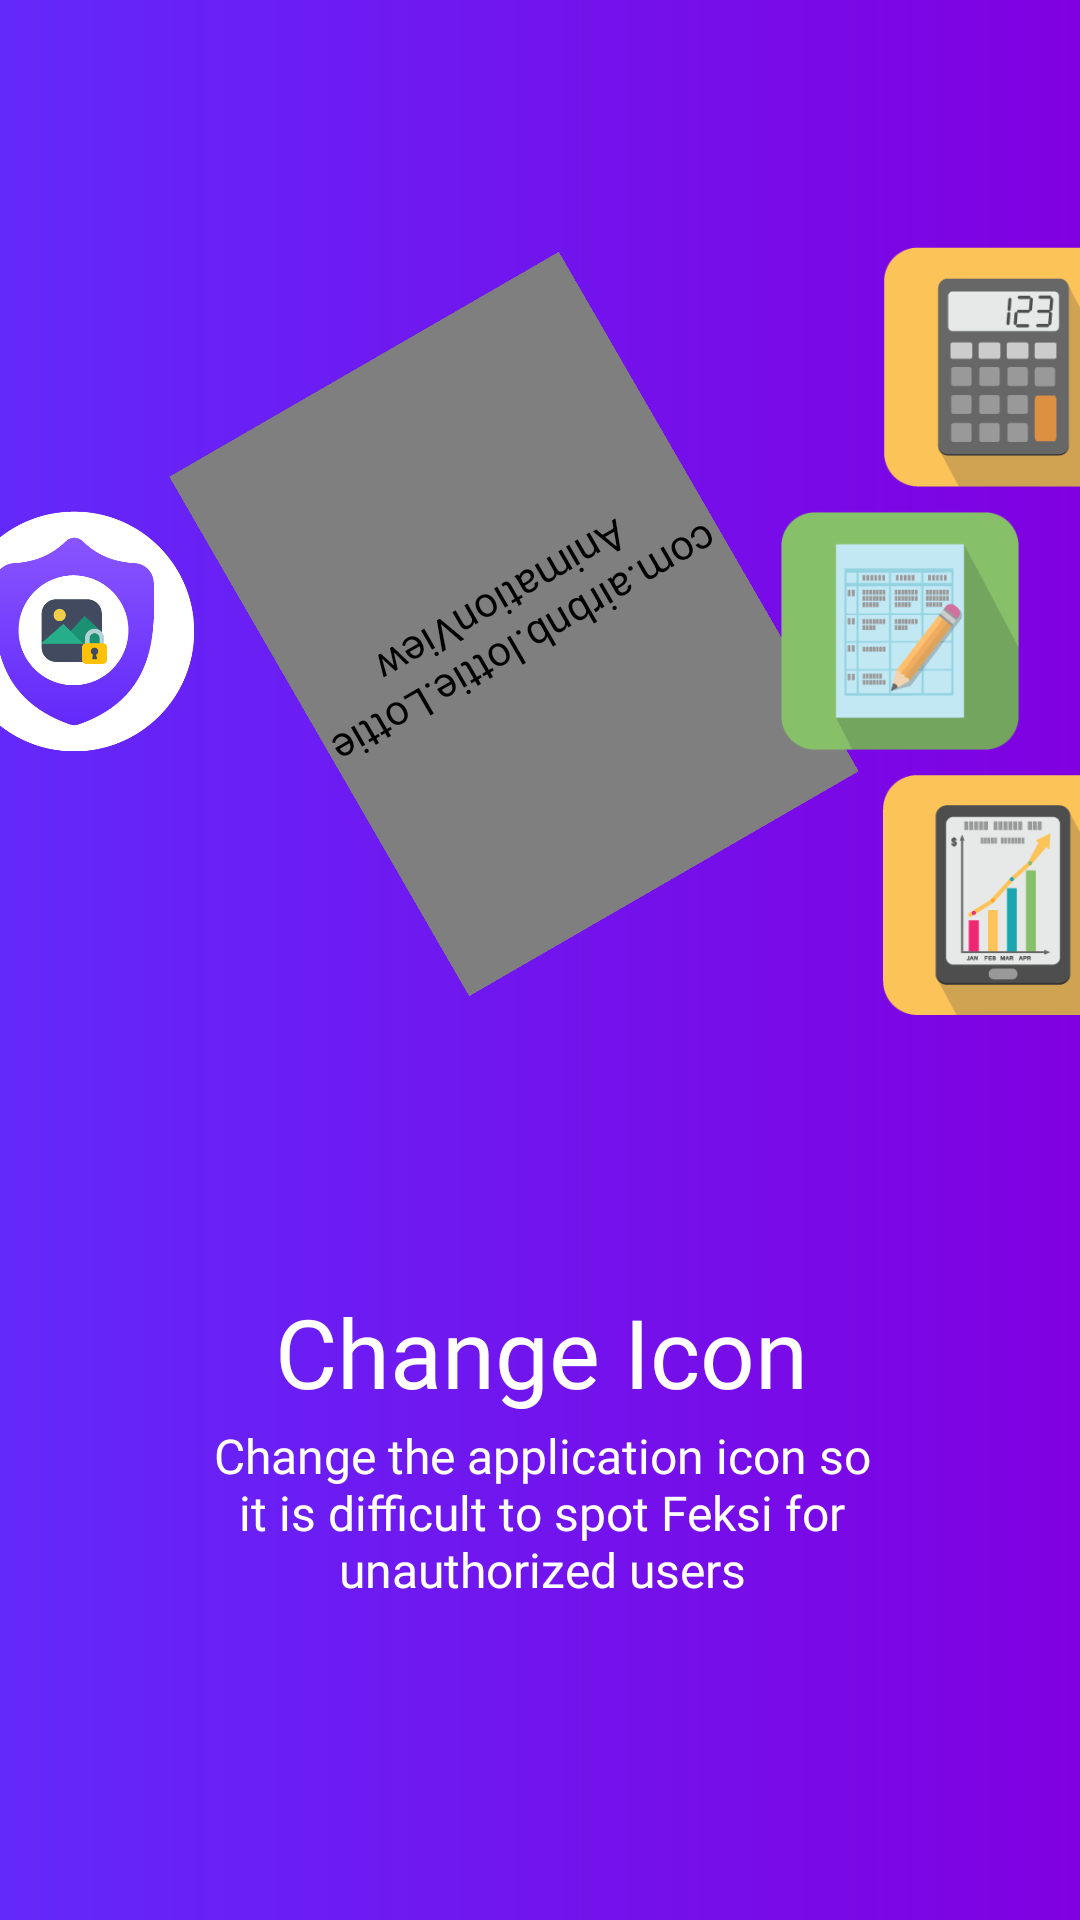

Icons on this 1080w x 1920h Android screen, each with the point to tap as point (x, y):
note: point (899, 631)
